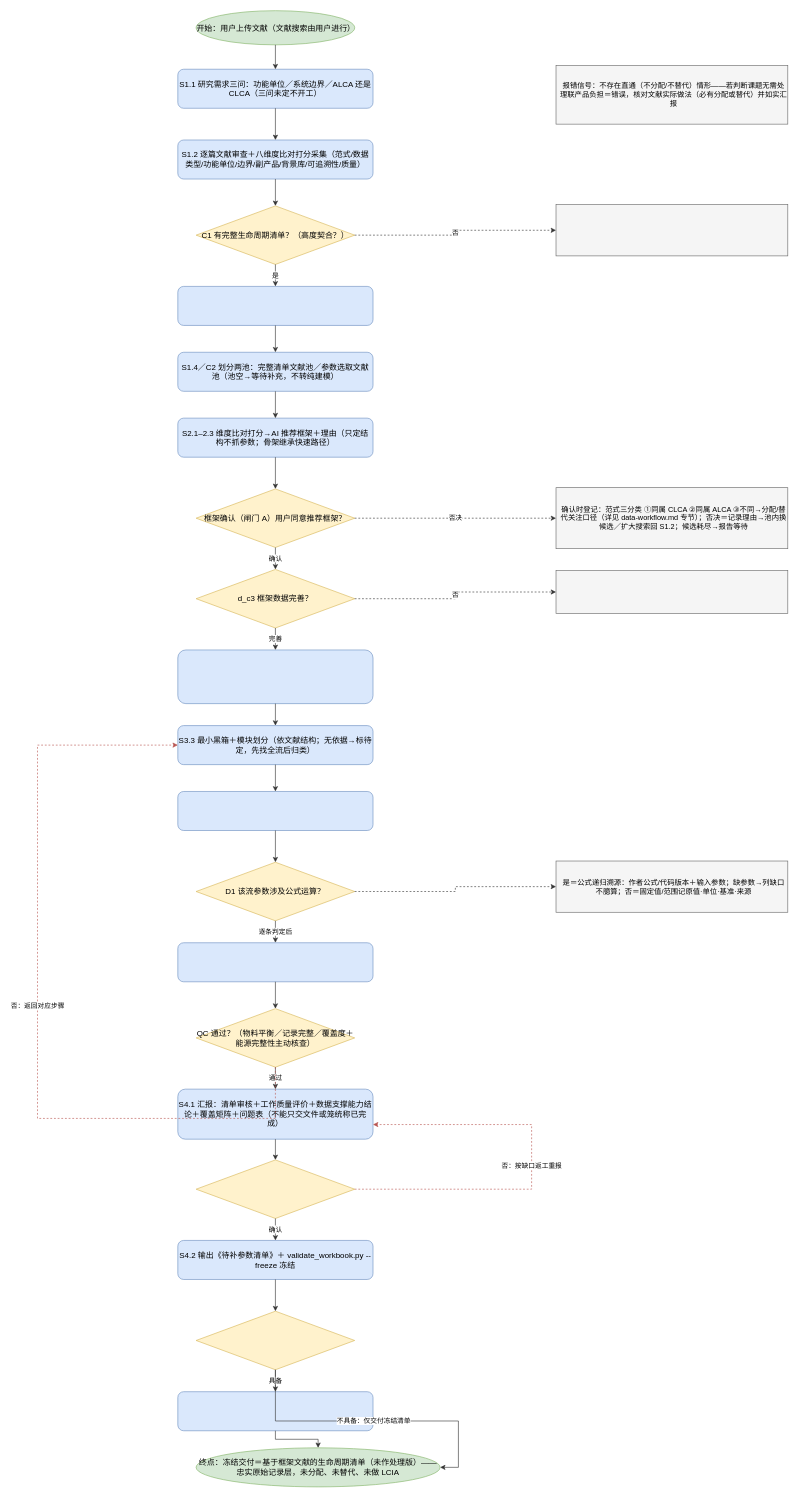
This 798x1498 diagram has some shape labels left out. Here are the shapes that lost their labels. From the top down, the centre of each, then its label:
(671,230): 否＝如实汇报缺口；文献质量差→用户重新找文献，回到 S1.2；硬不匹配（功能单位不可换算）不进入打分，直接汇报
(275,305): S1.3 多版本核验：内部标识＋关键单元格内容指纹→登记权威版；旧版数值不得进候选
(671,591): 否＝登记缺口清单、请用户补充（优先用户进行）；不填猜测值、不以其他版本数据顶替
(275,676): S3.1–3.2／C3 边界比对＋边界缩小菱形（用户裁定裁剪并登记）；资本品／背景过程显式询问；冲突→问题表，不受影响部分继续
(275,811): S3.4 逐过程识别全部流（输入/输出/内部转移/循环；过程总量不得伪装成操作量）
(275,962): S3.6–3.7 逐流记录卡＋命名规整（稳定 ID；名称不作关联键）
(275,1188): 冻结确认（闸门 B）用户确认清单与待补项？
(275,1340): 建模接口判定（闸门 C）多源采用／自有决策／自有口径 满足其一？
(275,1411): S4.3 输出 Brightway2 结构映射说明（只映射，不计算 LCIA/LCC）
